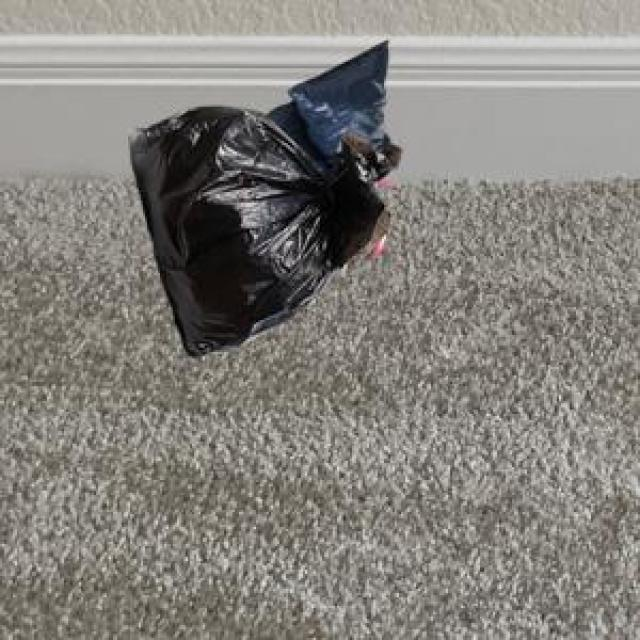Vinyl: (131, 41, 401, 354)
